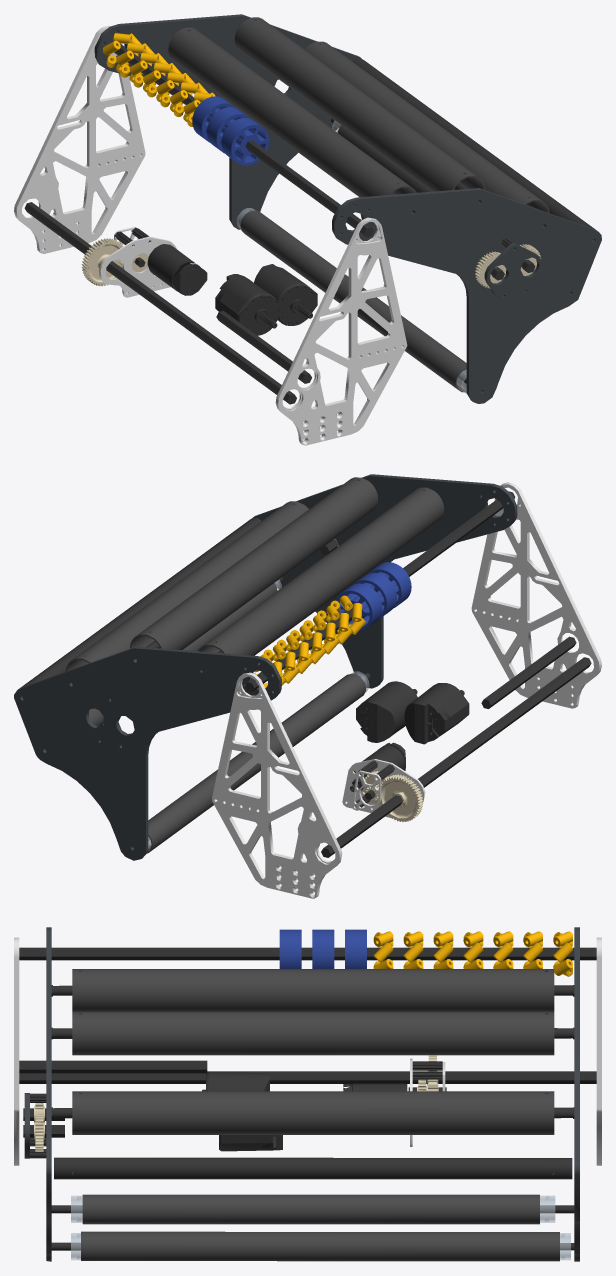
Rendered from 341-intake.glb.
3 views of the same model, one above another, from view 1: azimuth 30°, elevation 25°; view 2: azimuth 150°, elevation 25°; view 3: azimuth 270°, elevation 25° (orthographic). The views are drawn at different scales.
Parts seen in each view (by area): view 1: Main Slap Down (brontosaurus), Plastic Roller, Left Main Out Plate (Shoe), 1/2" Hex (8.813" L), 21 in Silicon, Left Roller, 2.25" Compliant Wheel (50A, 1" Wide, 1/2" Hex Bore), 36t Aluminum Spur Gear (20 DP, 1/2" Hex Bore); view 2: Main Slap Down (brontosaurus), Plastic Roller, Left Main Out Plate (Shoe), 1/2" Hex (8.813" L), 21 in Silicon, Left Roller, 2.25" Compliant Wheel (50A, 1" Wide, 1/2" Hex Bore), 36t Aluminum Spur Gear (20 DP, 1/2" Hex Bore); view 3: Plastic Roller, 1/2" Hex (8.813" L), 21 in Silicon, Left Roller, Main Slap Down (brontosaurus), Left Main Out Plate (Shoe), 2.25" Compliant Wheel (50A, 1" Wide, 1/2" Hex Bore), 22.25 in Polycarb Tube, 36t Aluminum Spur Gear (20 DP, 1/2" Hex Bore).
Part boxes in pixels (left/top/right/bottom): Main Slap Down (brontosaurus): left=94, top=14, right=601, bottom=403; Plastic Roller: left=168, top=17, right=549, bottom=212; Left Main Out Plate (Shoe): left=14, top=25, right=407, bottom=445; 1/2" Hex (8.813" L): left=24, top=43, right=595, bottom=404; 21 in Silicon: left=240, top=125, right=466, bottom=392; Left Roller: left=103, top=33, right=215, bottom=126; 2.25" Compliant Wheel (50A, 1" Wide, 1/2" Hex Bore): left=192, top=96, right=269, bottom=165; 36t Aluminum Spur Gear (20 DP, 1/2" Hex Bore): left=81, top=238, right=541, bottom=288; Main Slap Down (brontosaurus): left=14, top=474, right=517, bottom=860; Plastic Roller: left=66, top=477, right=444, bottom=671; Left Main Out Plate (Shoe): left=212, top=482, right=601, bottom=898; 1/2" Hex (8.813" L): left=20, top=484, right=591, bottom=857; 21 in Silicon: left=89, top=583, right=366, bottom=853; Left Roller: left=253, top=595, right=365, bottom=687; 2.25" Compliant Wheel (50A, 1" Wide, 1/2" Hex Bore): left=336, top=562, right=411, bottom=630; 36t Aluminum Spur Gear (20 DP, 1/2" Hex Bore): left=334, top=539, right=423, bottom=821; Plastic Roller: left=72, top=969, right=554, bottom=1134; 1/2" Hex (8.813" L): left=19, top=947, right=596, bottom=1250; 21 in Silicon: left=81, top=1194, right=559, bottom=1261; Left Roller: left=373, top=931, right=572, bottom=976; Main Slap Down (brontosaurus): left=24, top=927, right=579, bottom=1261; Left Main Out Plate (Shoe): left=14, top=937, right=601, bottom=1165; 2.25" Compliant Wheel (50A, 1" Wide, 1/2" Hex Bore): left=279, top=929, right=366, bottom=968; 22.25 in Polycarb Tube: left=71, top=1195, right=570, bottom=1260; 36t Aluminum Spur Gear (20 DP, 1/2" Hex Bore): left=34, top=1055, right=438, bottom=1151.
Bounding box in the file's own units: 0.5171 × 0.3361 × 0.6858.
